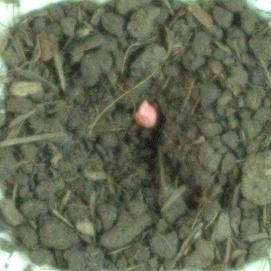chilli seed: (132, 98, 160, 128)
